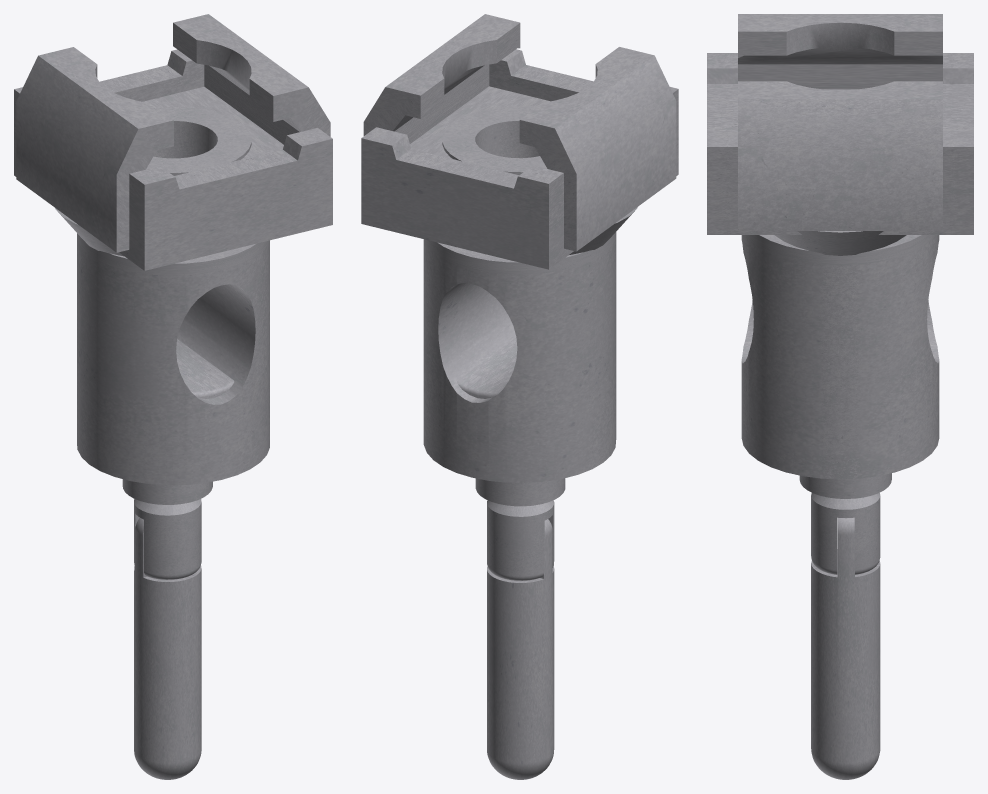
File: light_radial_clamp.fbx
3 views of the same model, side by side, from view 1: azimuth 30°, elevation 25°; view 2: azimuth 150°, elevation 25°; view 3: azimuth 270°, elevation 25° (orthographic). The views are drawn at different scales.
Visible parts, largest first — view 1: mounting, clamp_outer, clamp_inner, hinge_arm, inside_cylinder, bracket, ring_cap, clamp, connector; view 2: mounting, clamp_outer, clamp_inner, hinge_arm, inside_cylinder, bracket, ring_cap, clamp, connector; view 3: clamp_outer, mounting, hinge_arm, clamp_inner, bracket, ring_cap, clamp_connector, connector.
Part boxes in pixels (box(x1,y1,x2,y2)): mounting: box(77, 237, 269, 485); clamp_outer: box(16, 14, 330, 252); clamp_inner: box(14, 49, 332, 270); hinge_arm: box(134, 518, 201, 779); inside_cylinder: box(146, 107, 251, 175); bracket: box(134, 499, 201, 579); ring_cap: box(77, 233, 268, 275); clamp: box(176, 339, 234, 398); connector: box(122, 479, 212, 504); mounting: box(423, 232, 616, 482); clamp_outer: box(363, 14, 676, 251); clamp_inner: box(361, 49, 678, 269); hinge_arm: box(487, 519, 554, 779); inside_cylinder: box(442, 106, 547, 175); bracket: box(487, 500, 554, 580); ring_cap: box(425, 232, 615, 274); clamp: box(457, 337, 517, 398); connector: box(475, 478, 565, 506); clamp_outer: box(738, 14, 942, 230); mounting: box(741, 235, 939, 479); hinge_arm: box(811, 517, 880, 779); clamp_inner: box(707, 53, 973, 234); bracket: box(811, 493, 880, 574); ring_cap: box(746, 235, 934, 265); clamp_connector: box(774, 231, 906, 255); connector: box(799, 473, 891, 498).
Size of the model in its own units: 5.64 by 17.24 by 5.78.
1 material, 1 textured.
